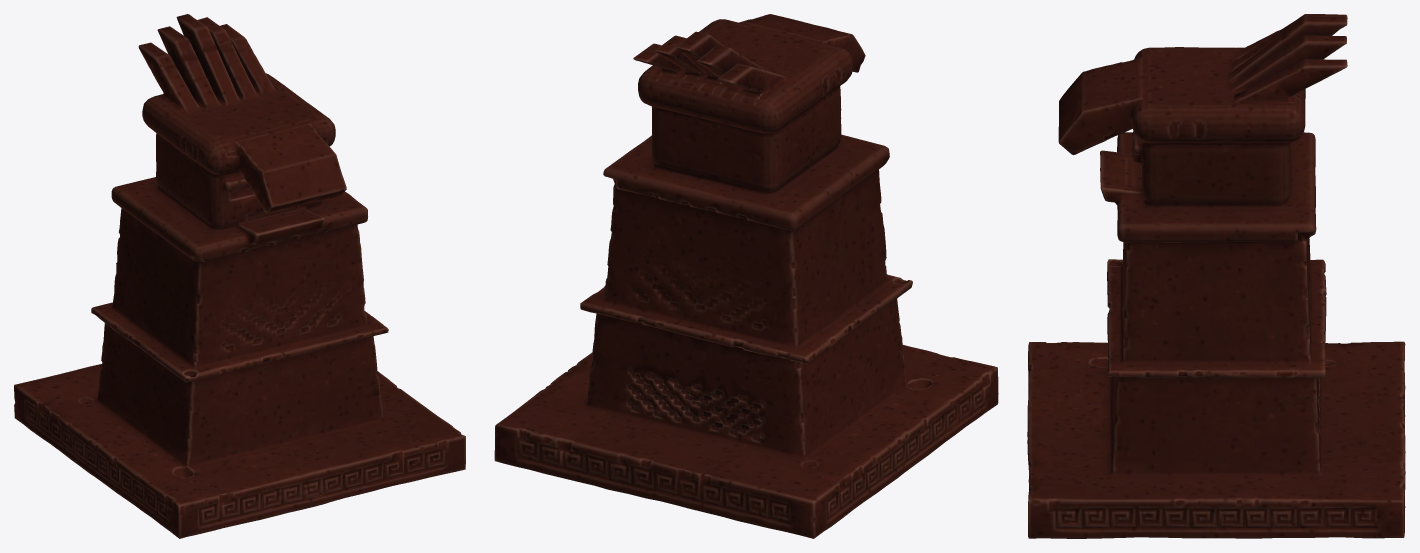
File: bishop-tezontle.glb
The picture shows the model from 3 angles, left to right: view 1: azimuth 30°, elevation 25°; view 2: azimuth 150°, elevation 25°; view 3: azimuth 270°, elevation 25°; orthographic projection. The views are drawn at different scales.
Visible parts, largest first — view 1: bishop; view 2: bishop; view 3: bishop.
Boxes of the visible parts, box(x1,y1,x2,y2) form: bishop: box(14, 14, 465, 538); bishop: box(494, 14, 998, 538); bishop: box(1027, 14, 1405, 538).
Bounding box in the file's own units: 0.7629 × 0.9823 × 0.7632.
Materials: 1 (1 with a texture image).
